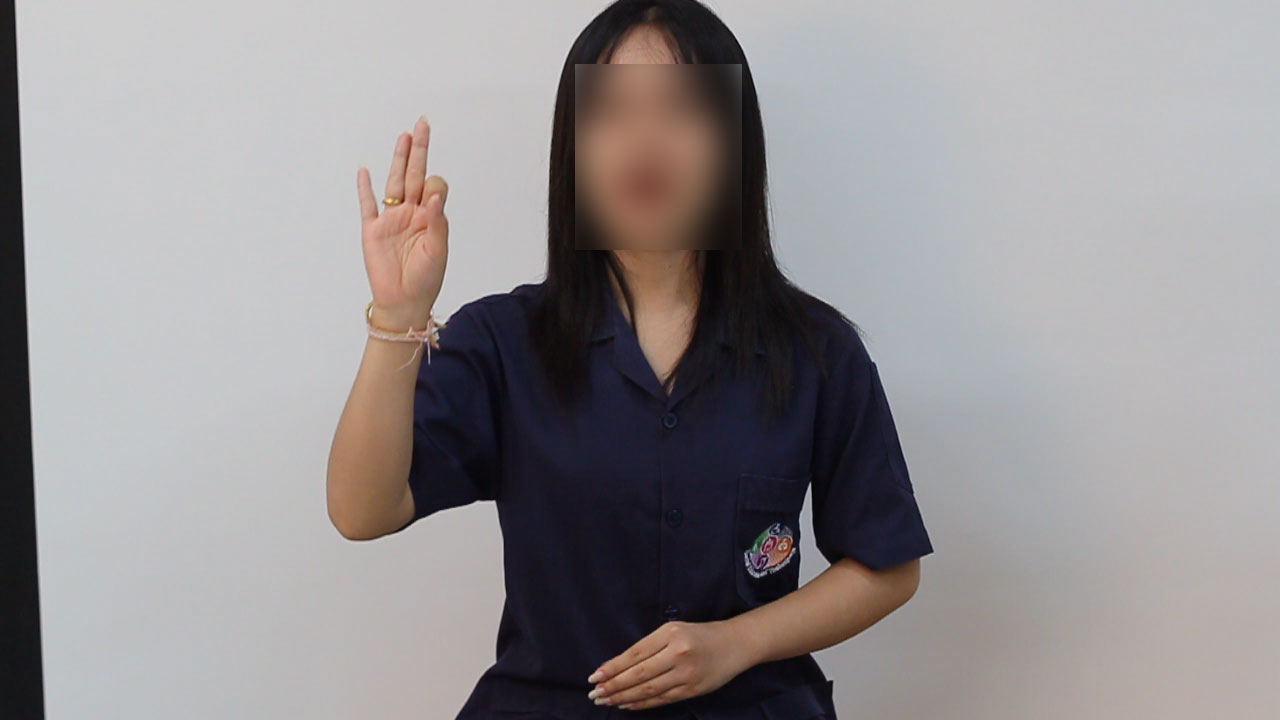for: (350, 105, 457, 325)
